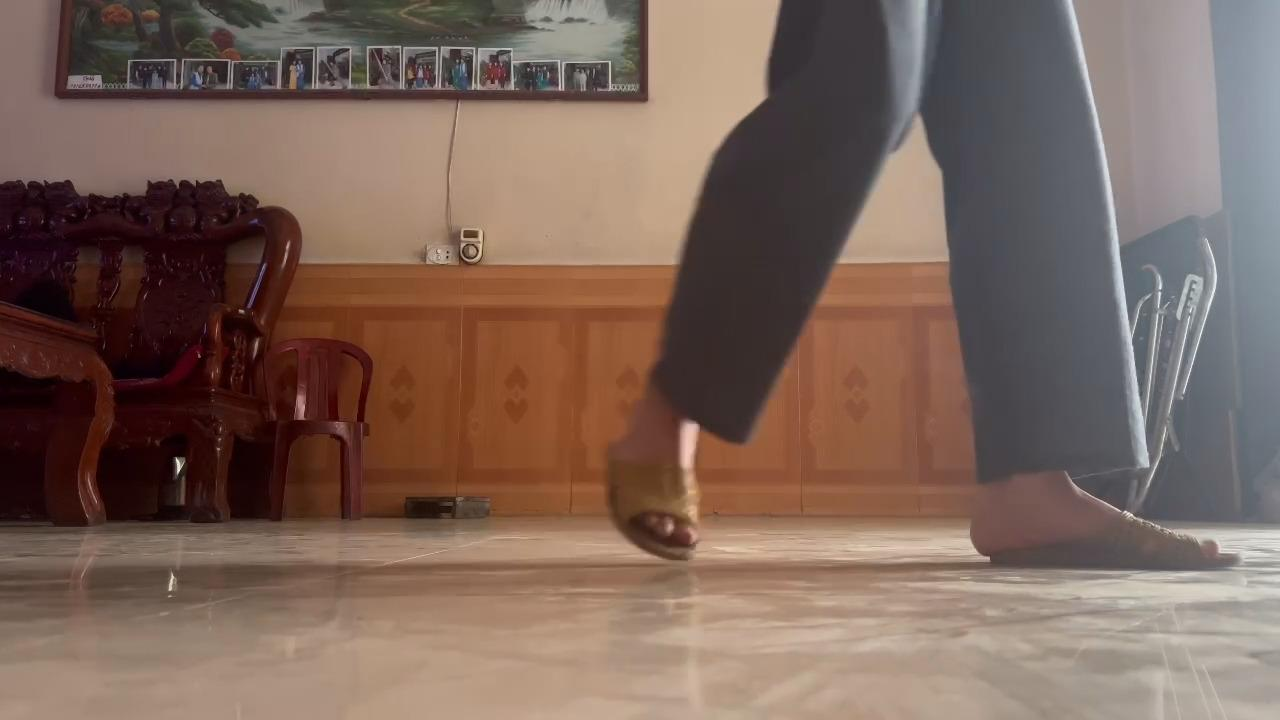no-boot: (963, 486, 1246, 583), (592, 412, 718, 573)
